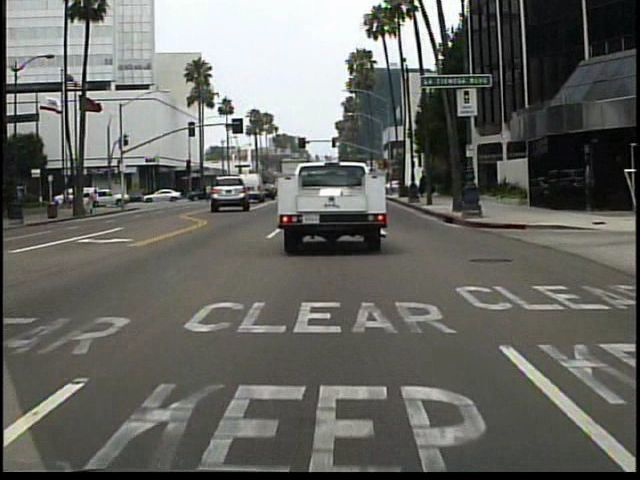person: (91, 187, 105, 213)
